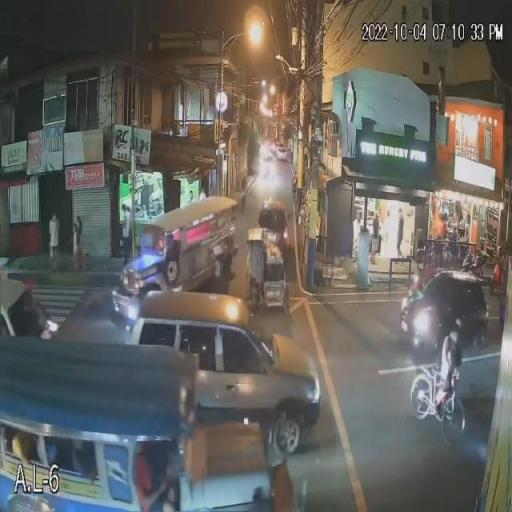motorcycle: (453, 245, 491, 283)
